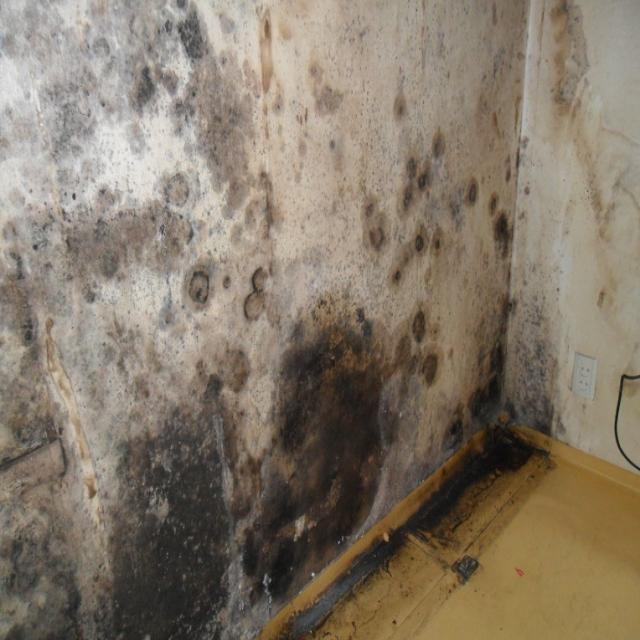leak: (126, 348, 416, 534)
